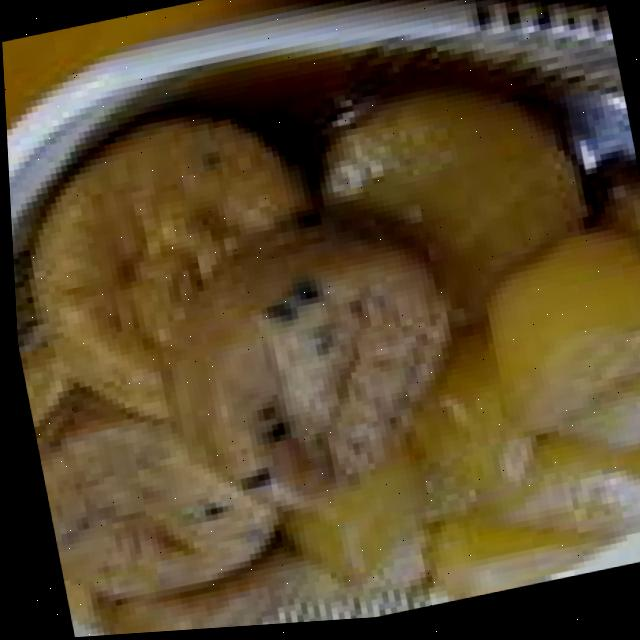熟制海鲜: (4, 63, 640, 640)
